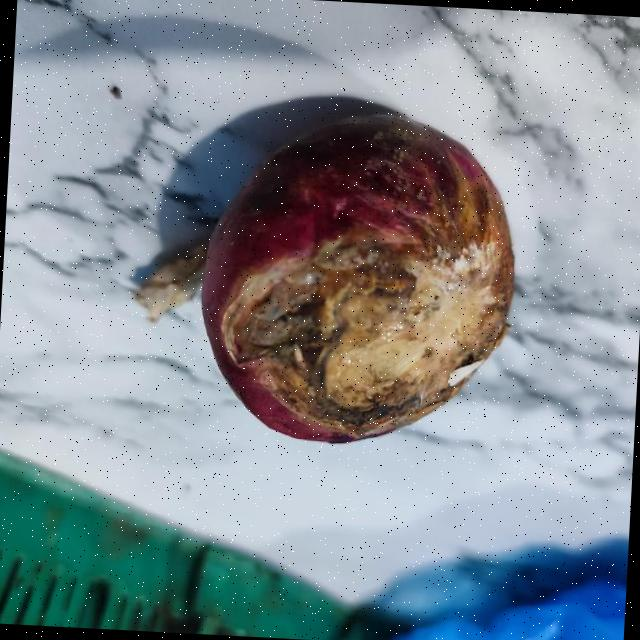Onion: (201, 114, 513, 441)
